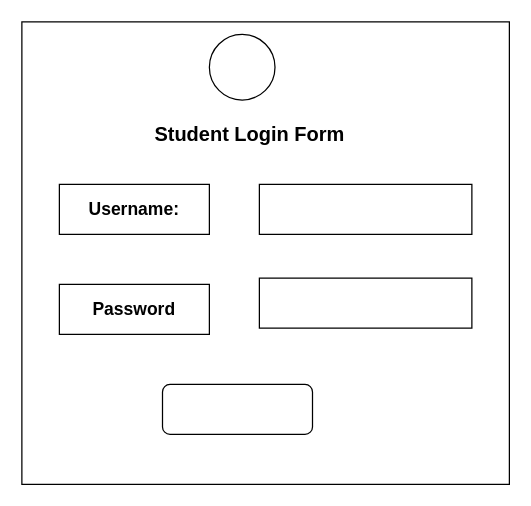
This 531x506 diagram has some shape labels left out. The shapes that lost their labels are listed below. From the top down, each one's centre as x and y in pixels, then its label:
point 241,66: Logo
point 236,408: Login
